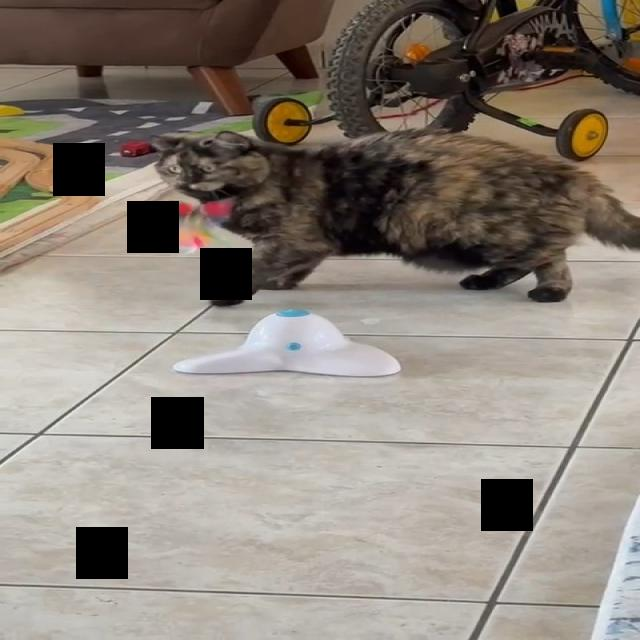authorized: (149, 126, 639, 306)
